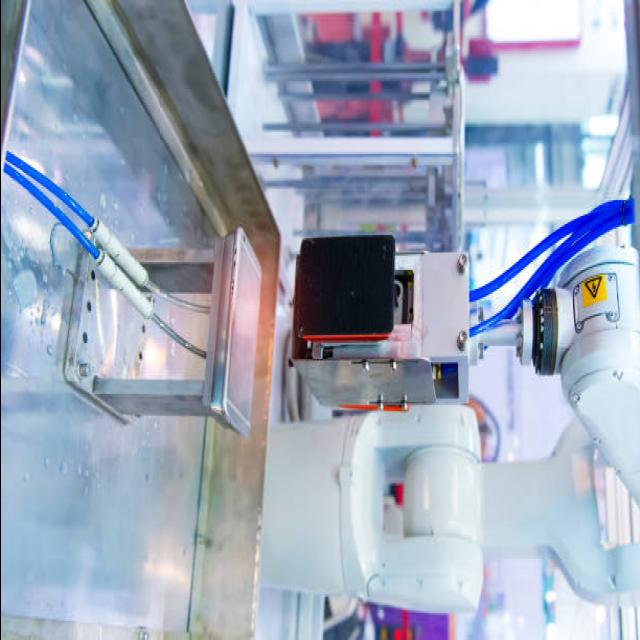Robotic-arm: (264, 223, 640, 640)
